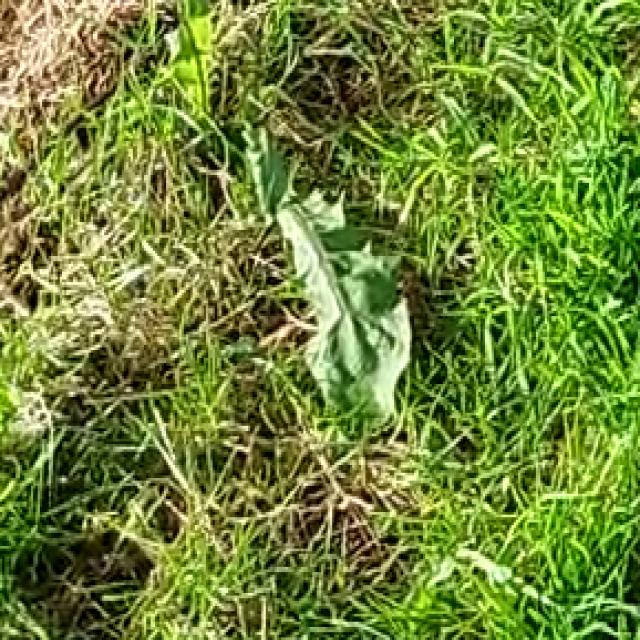organic waste: (217, 57, 452, 431)
